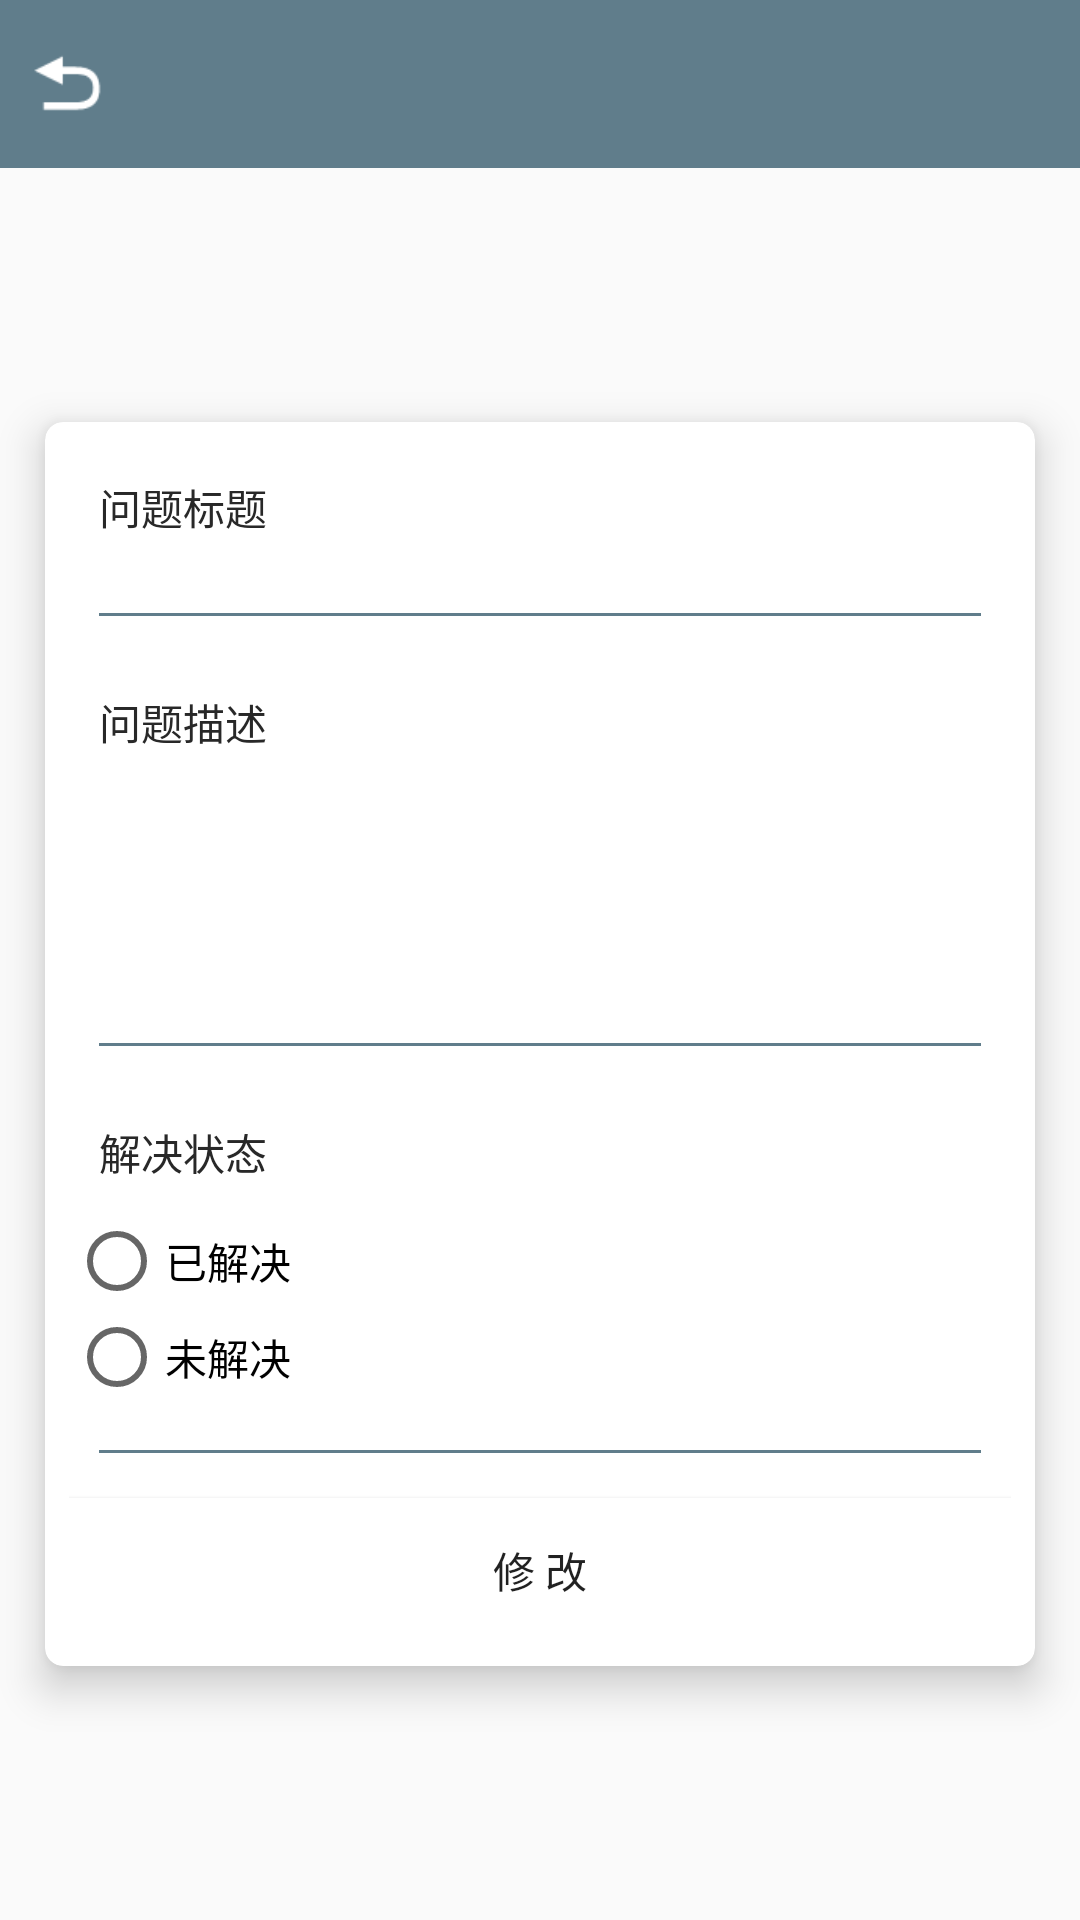

Icons on this 1080 x 1920 Android screen, each with its box as (x1, y1, x2, y2):
back: (34, 56, 101, 111)
